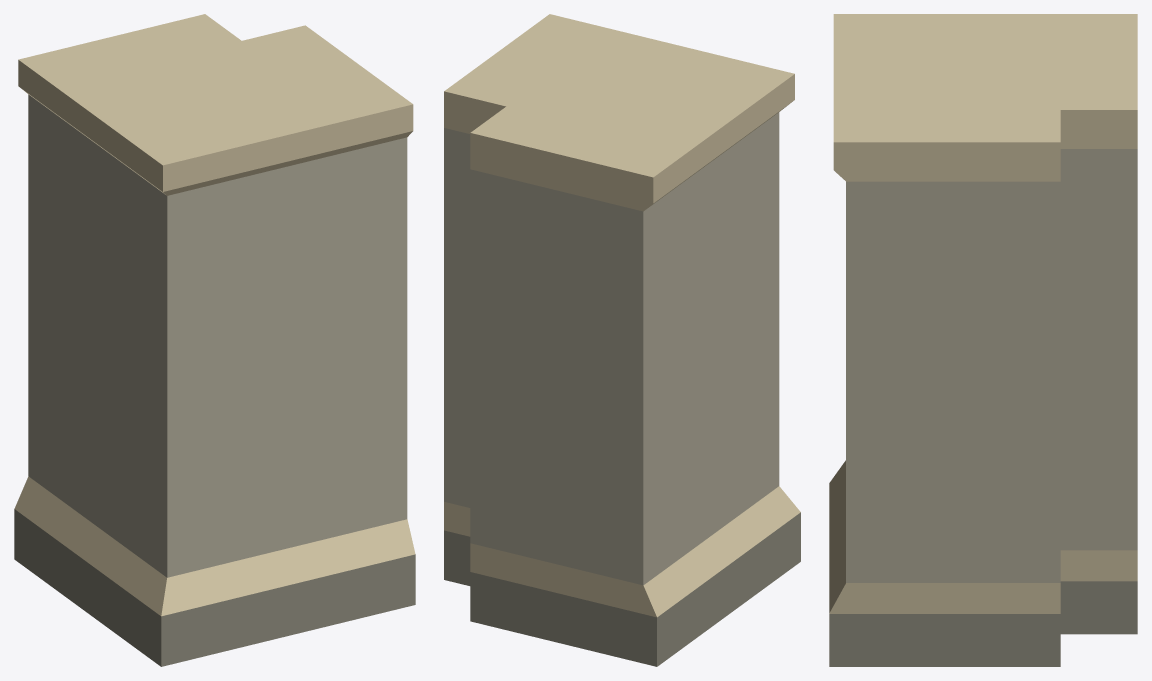
The model's file is right_angle_return.glb.
3 renders of one model, left to right at view 1: azimuth 30°, elevation 25°; view 2: azimuth 150°, elevation 25°; view 3: azimuth 270°, elevation 25°, orthographic. The views are drawn at different scales.
Visible parts, largest first — view 1: Right-angle return; view 2: Right-angle return; view 3: Right-angle return.
Boxes of the visible parts, left/top/right/bottom form: Right-angle return: left=14, top=14, right=415, bottom=666; Right-angle return: left=444, top=14, right=800, bottom=666; Right-angle return: left=829, top=14, right=1137, bottom=666.
Bounding box in the file's own units: 1 × 1.88 × 1.
